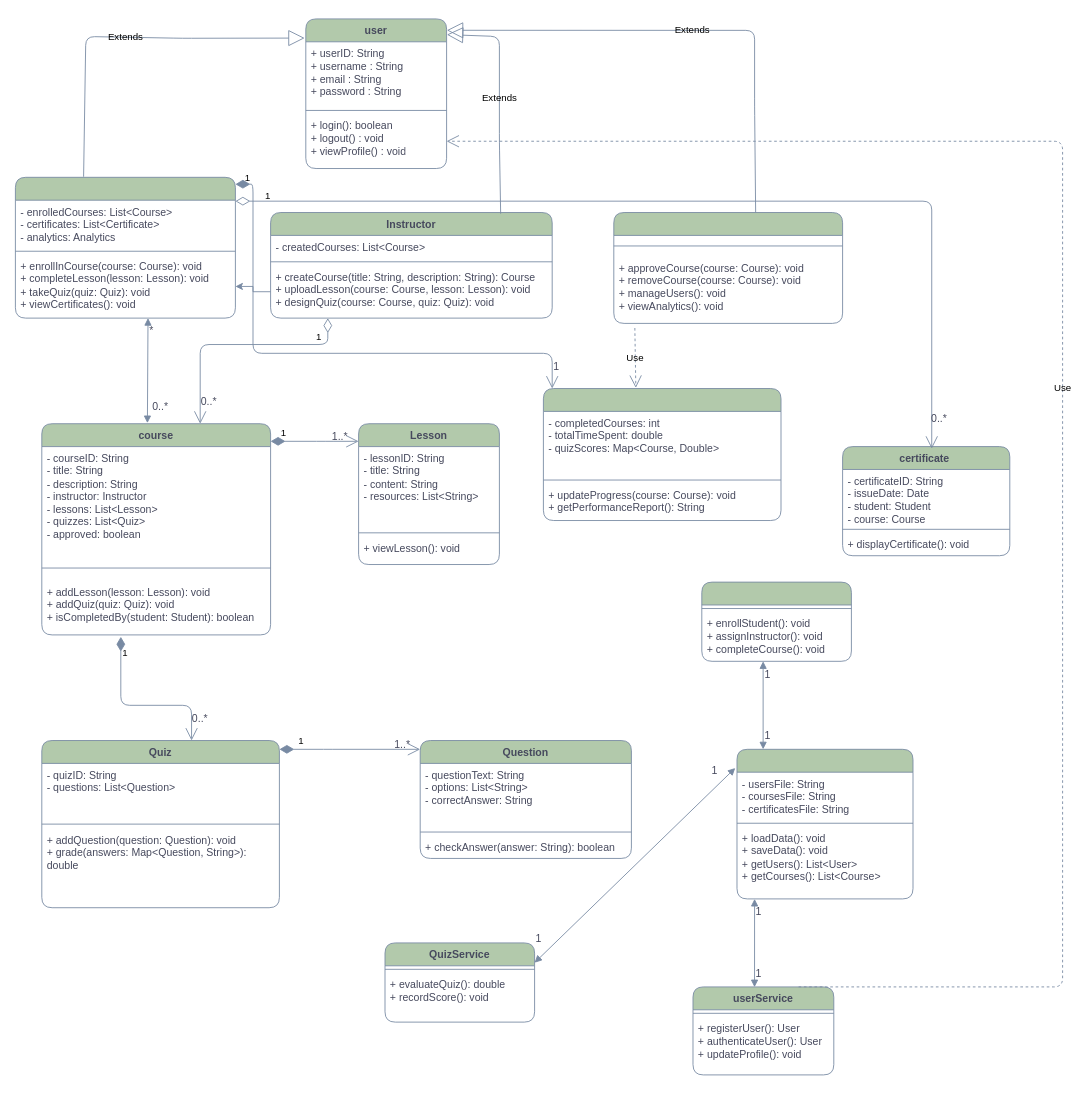
Some shapes in this 1090 by 1093 pixel diagram are drawn without their labels. The shapes that lost their labels are listed below. From the top down, each one's box as (x1, y1, x2, y2) in pixels, then its label:
(15, 176, 235, 318): student
(613, 212, 843, 323): Admin
(543, 388, 781, 521): Analytics
(701, 581, 851, 661): courseService
(736, 748, 913, 899): JsonDatabaseManager
